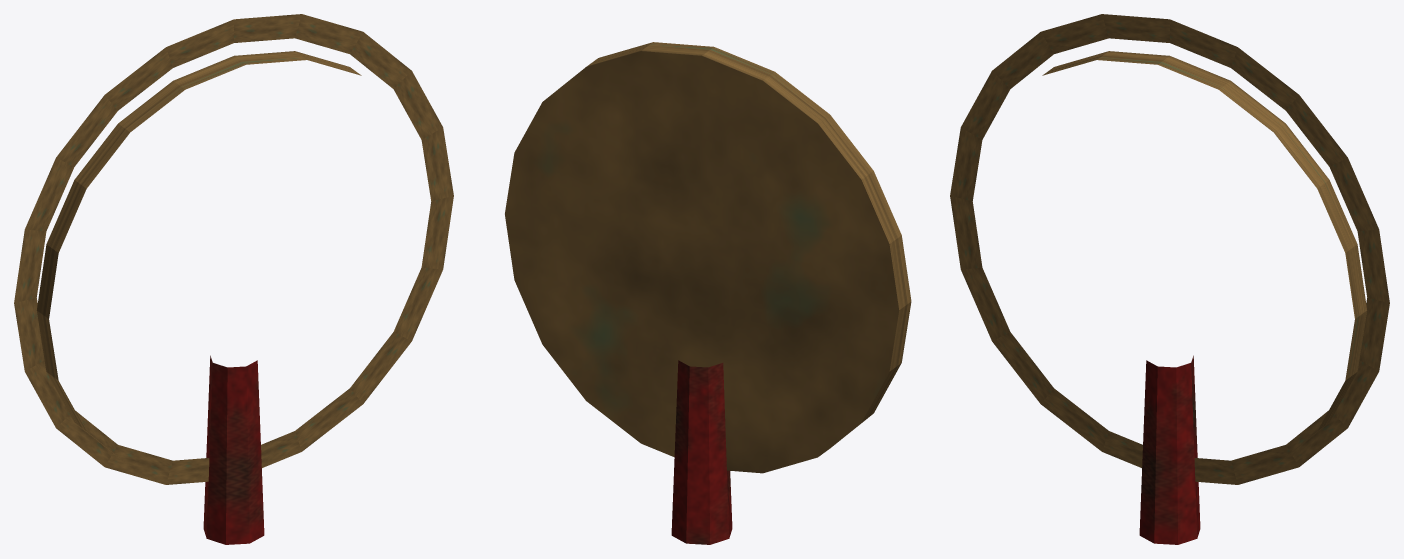
Rendered from bronze_mirror.glb.
The picture shows the model from 3 angles, left to right: view 1: azimuth 30°, elevation 25°; view 2: azimuth 150°, elevation 25°; view 3: azimuth 330°, elevation 25°; orthographic projection.
Visible parts, largest first — view 1: Rim, Handle, Disc; view 2: Disc, Handle; view 3: Rim, Handle, Disc.
Part boxes in pixels (x1,y1,x2,y2): Rim: [14, 14, 453, 484]; Handle: [203, 355, 264, 544]; Disc: [36, 51, 361, 463]; Disc: [505, 42, 911, 473]; Handle: [671, 360, 732, 544]; Rim: [950, 14, 1389, 484]; Handle: [1139, 355, 1200, 544]; Disc: [1042, 51, 1367, 463].
Size of the model in its own units: 0.29 by 0.323 by 0.036.
Materials: 3 (3 with a texture image).
